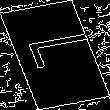L_E: (13, 33, 97, 77)
